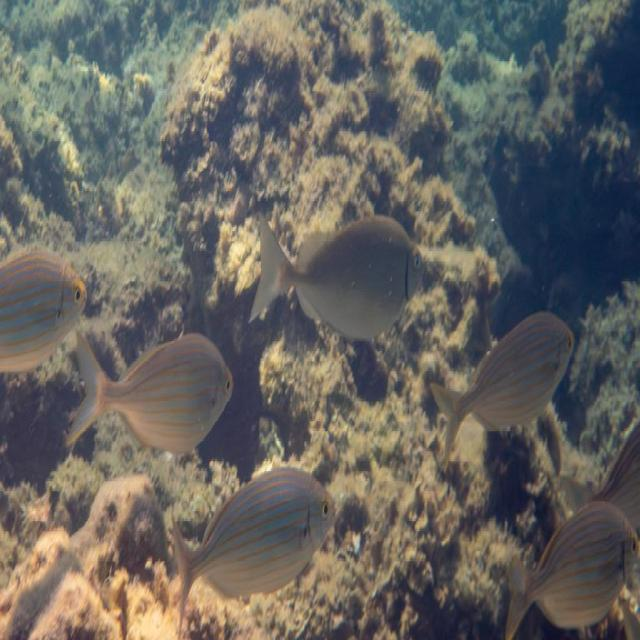Sokar Baligi: (162, 450, 344, 640), (244, 184, 437, 346), (60, 308, 246, 468), (425, 297, 584, 473)
